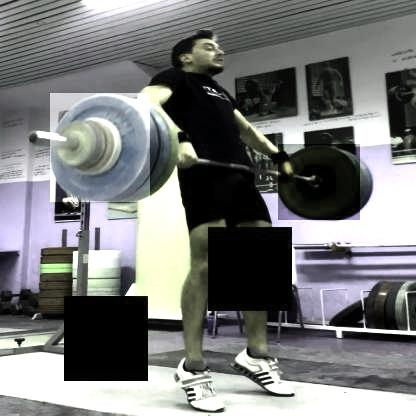barbell: (50, 93, 151, 203), (278, 145, 360, 222)
